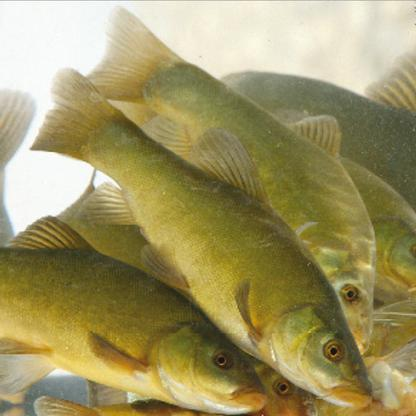fish: (0, 245, 271, 411)
